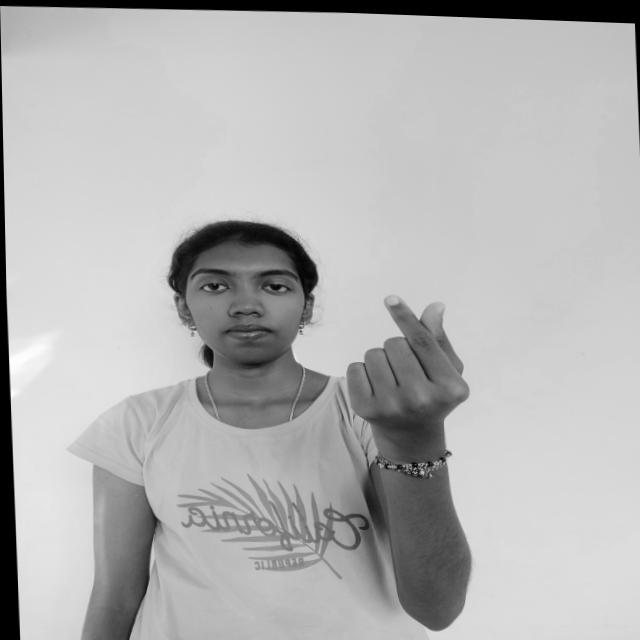Grattitude: (323, 283, 483, 446)
